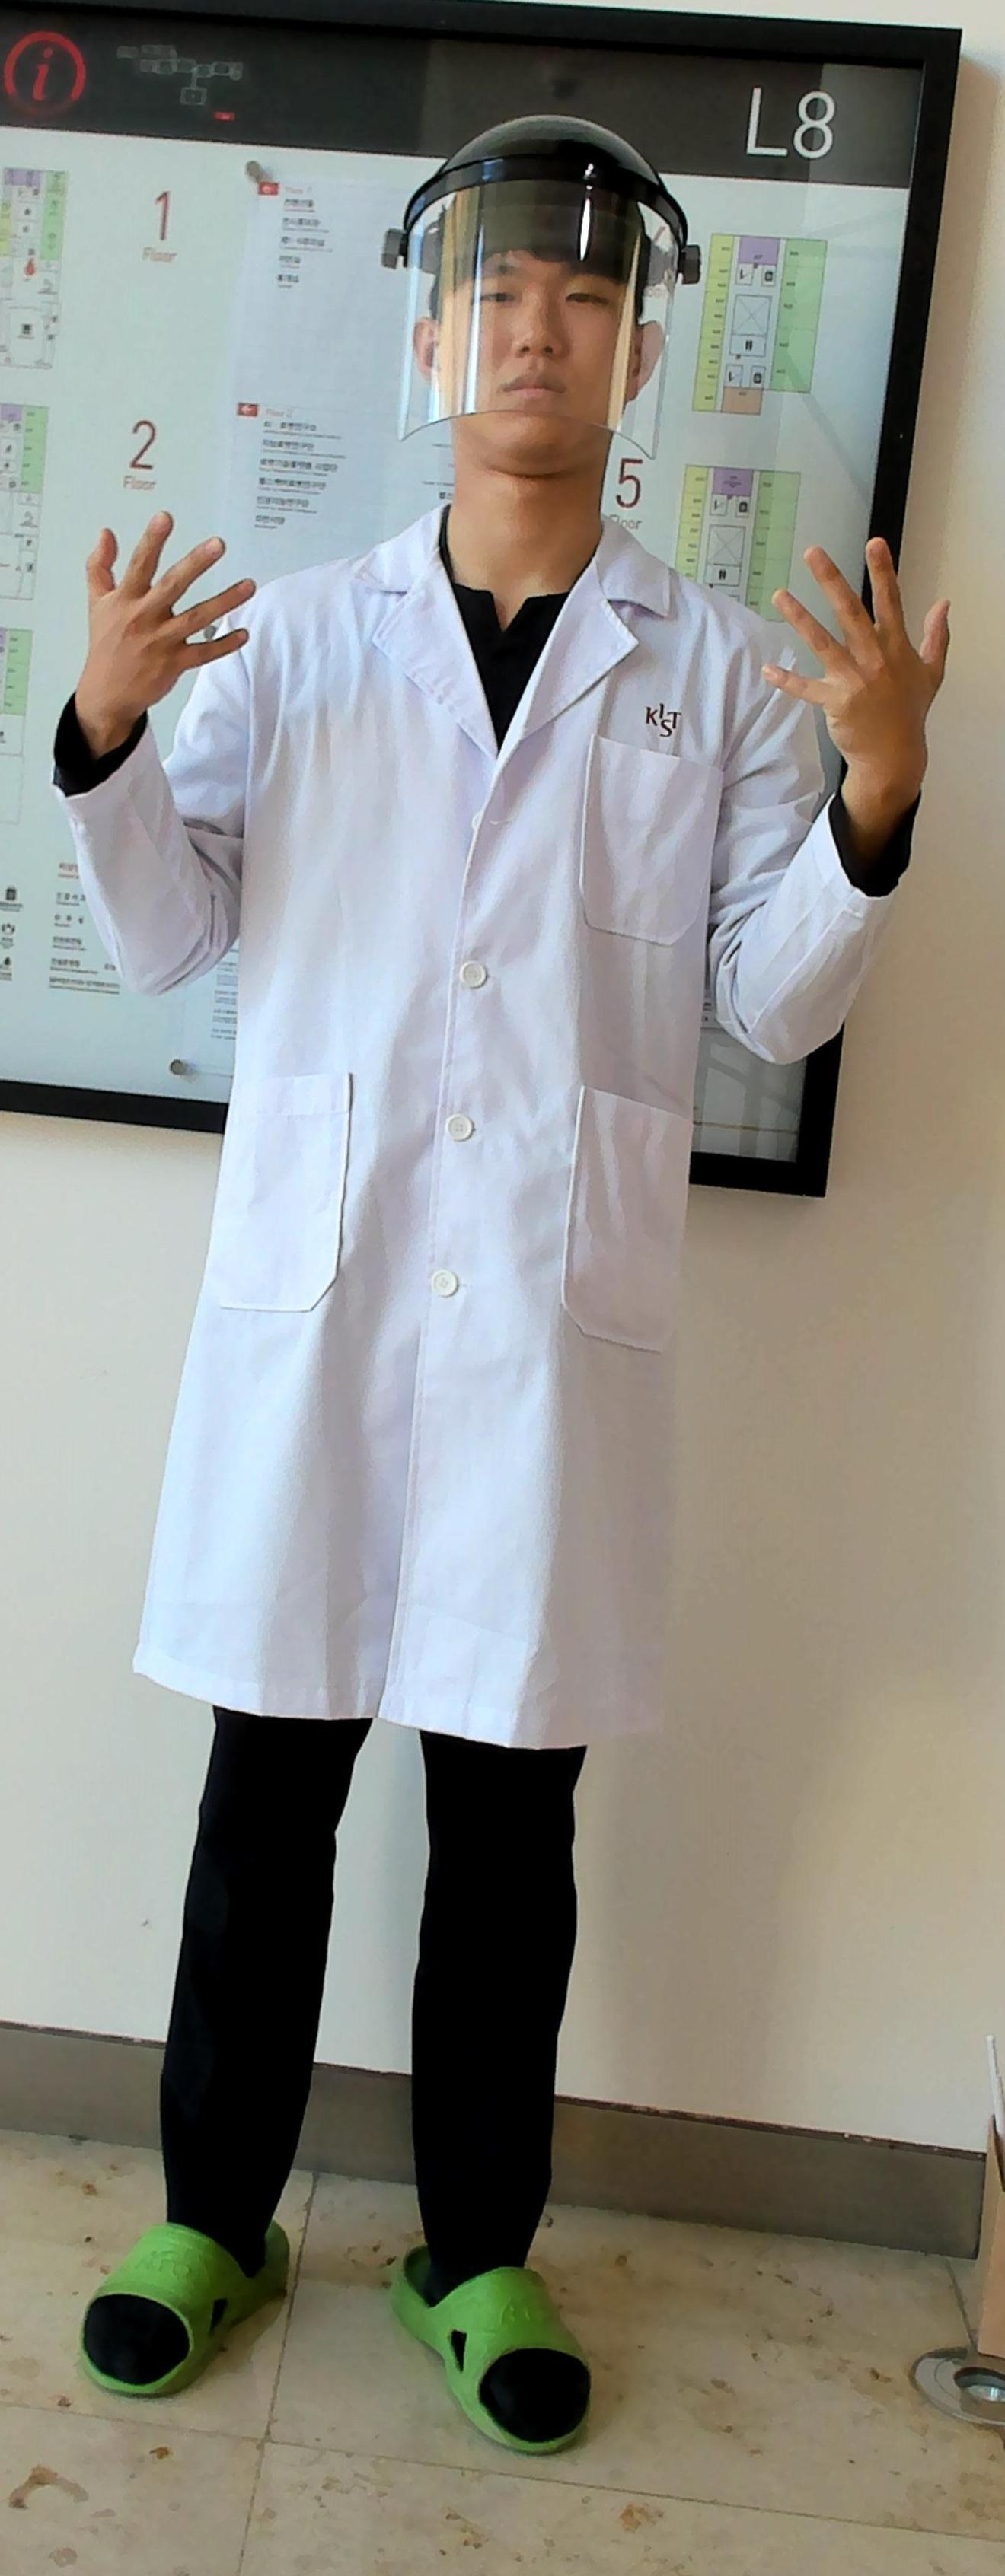lab_coat: (212, 572, 763, 1732)
